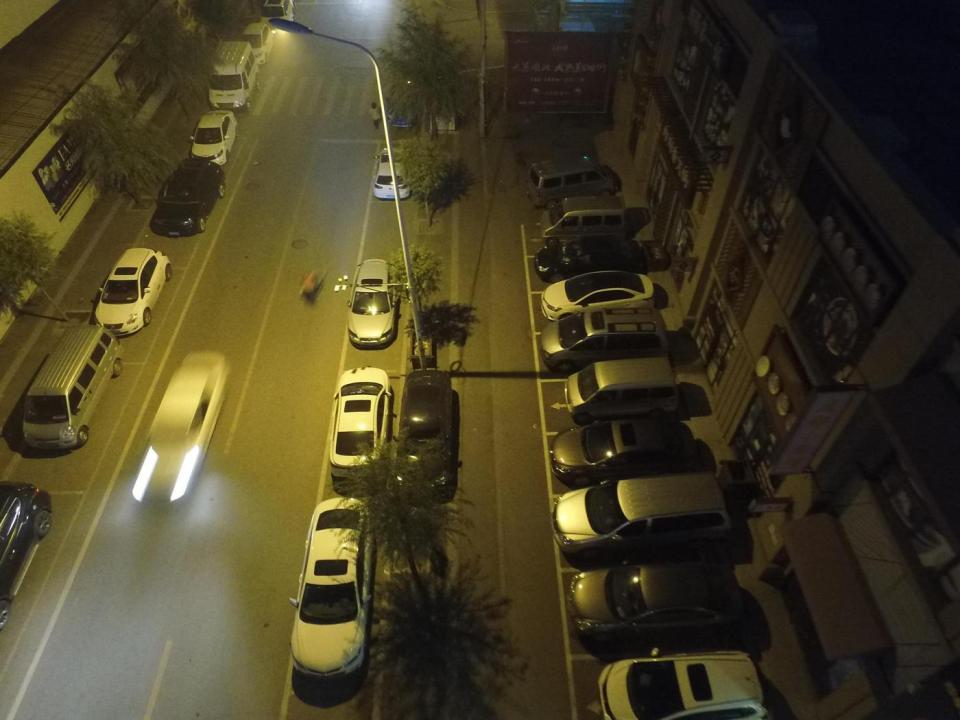car: (289, 496, 371, 680), (570, 559, 746, 642), (132, 351, 227, 503), (597, 647, 766, 720), (550, 419, 696, 485), (0, 480, 51, 631), (392, 370, 453, 495), (93, 248, 172, 336), (330, 367, 389, 477), (540, 270, 654, 322), (534, 234, 642, 284), (348, 260, 398, 348), (190, 109, 237, 164), (372, 148, 410, 200), (238, 22, 273, 64), (386, 84, 418, 127), (259, 0, 296, 35)
truck: (527, 156, 615, 210), (540, 196, 626, 245)
van: (552, 471, 730, 560), (23, 325, 122, 450), (540, 306, 671, 372), (564, 357, 679, 426), (154, 159, 225, 236), (208, 40, 260, 114)
